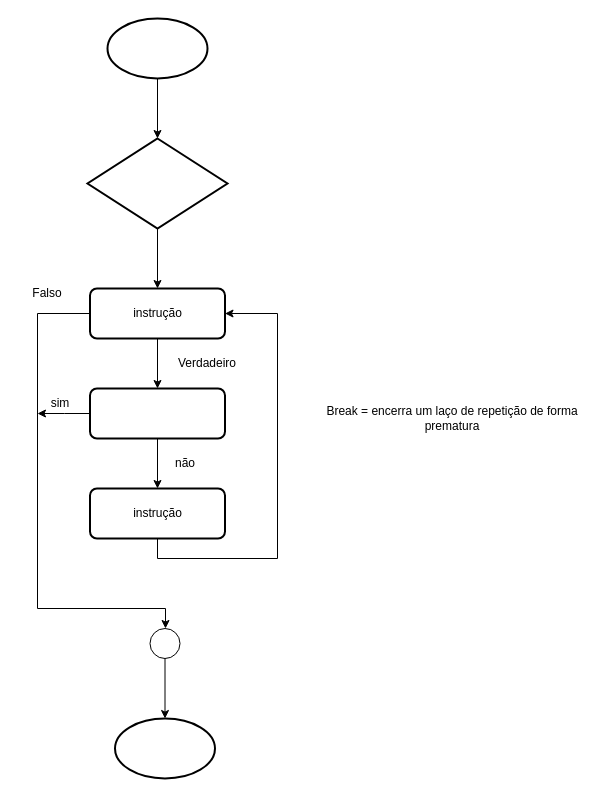
This 604x796 diagram has some shape labels left out. Here are the shapes that lost their labels. From the top down, the centre of each, then its label:
(157,183): Expressão
(157,413): é break?
